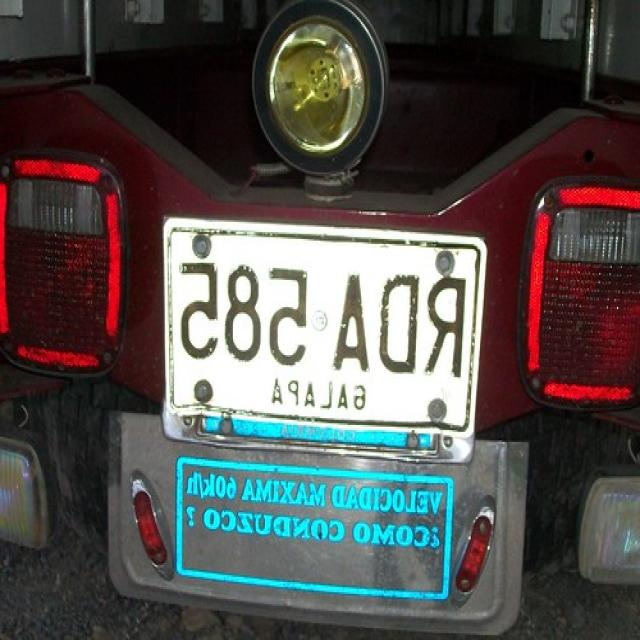placas: (175, 249, 470, 382)
